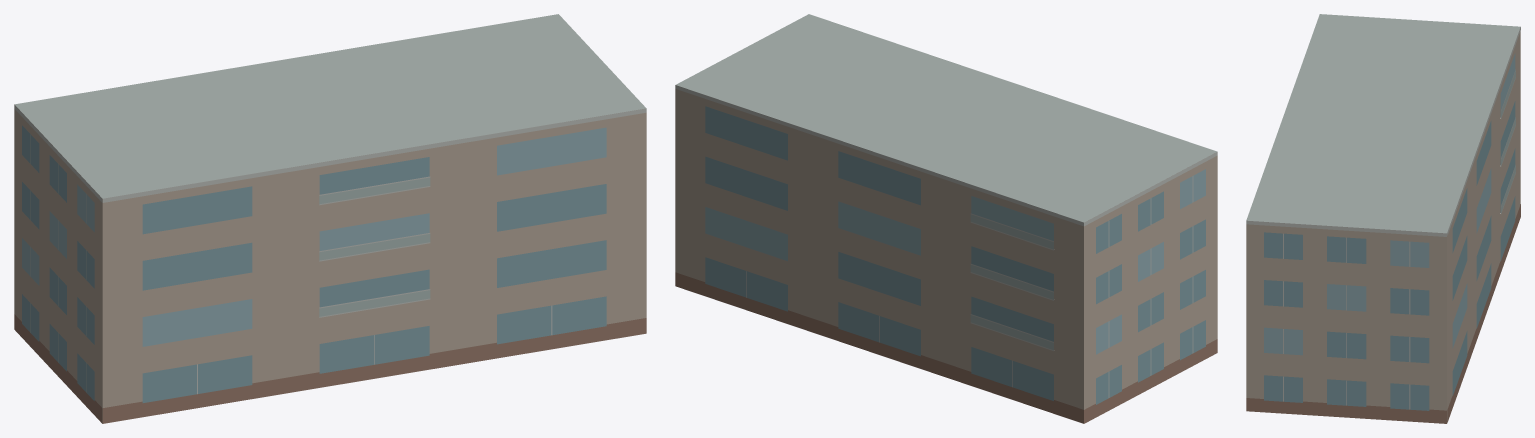
File: survey-upis-32817394.glb
3 renders of one model, left to right at view 1: azimuth 30°, elevation 25°; view 2: azimuth 150°, elevation 25°; view 3: azimuth 270°, elevation 25°, orthographic. The views are drawn at different scales.
Parts seen in each view (by area): view 1: survey-upis-32817394.tmp; view 2: survey-upis-32817394.tmp; view 3: survey-upis-32817394.tmp.
Part boxes in pixels (box(x1,y1,x2,y2)): survey-upis-32817394.tmp: box(14, 14, 646, 423); survey-upis-32817394.tmp: box(675, 14, 1217, 423); survey-upis-32817394.tmp: box(1246, 14, 1520, 423).
Size of the model in its own units: 31.62 by 12.8 by 16.73.
